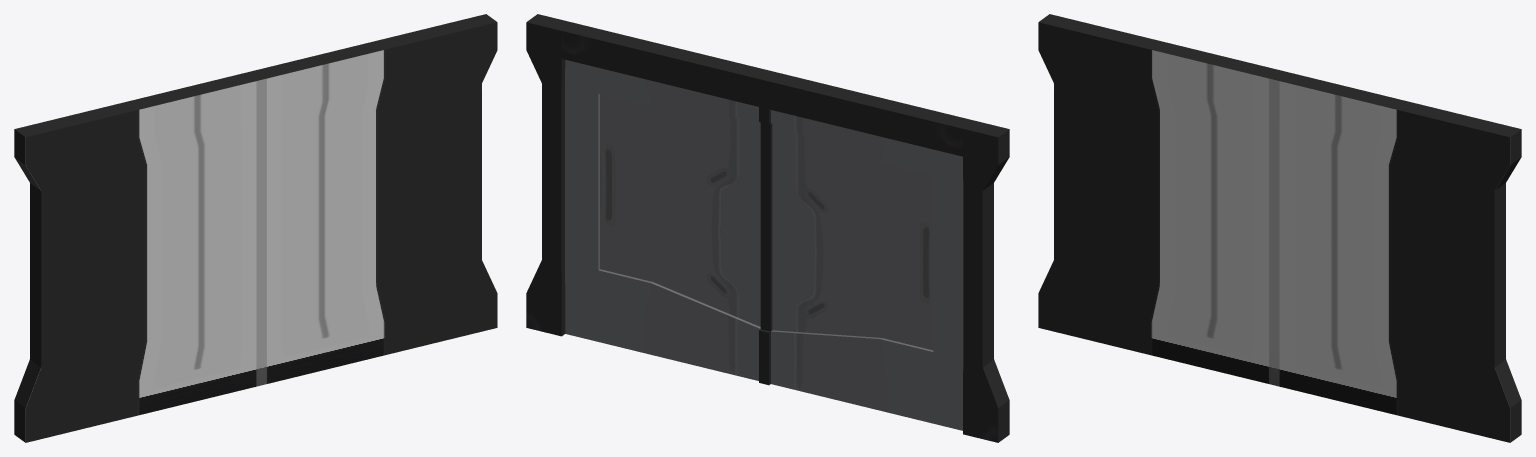
Rendered from mdlDoor.fbx.
The picture shows the model from 3 angles, left to right: view 1: azimuth 30°, elevation 25°; view 2: azimuth 150°, elevation 25°; view 3: azimuth 330°, elevation 25°; orthographic projection.
Parts seen in each view (by area): view 1: Cube; view 2: Cube; view 3: Cube.
Boxes of the visible parts, bbox=[...] form: Cube: bbox=[14, 14, 497, 442]; Cube: bbox=[526, 14, 1009, 442]; Cube: bbox=[1038, 14, 1521, 442].
Size of the model in its own units: 11.18 by 6.91 by 0.4634.
